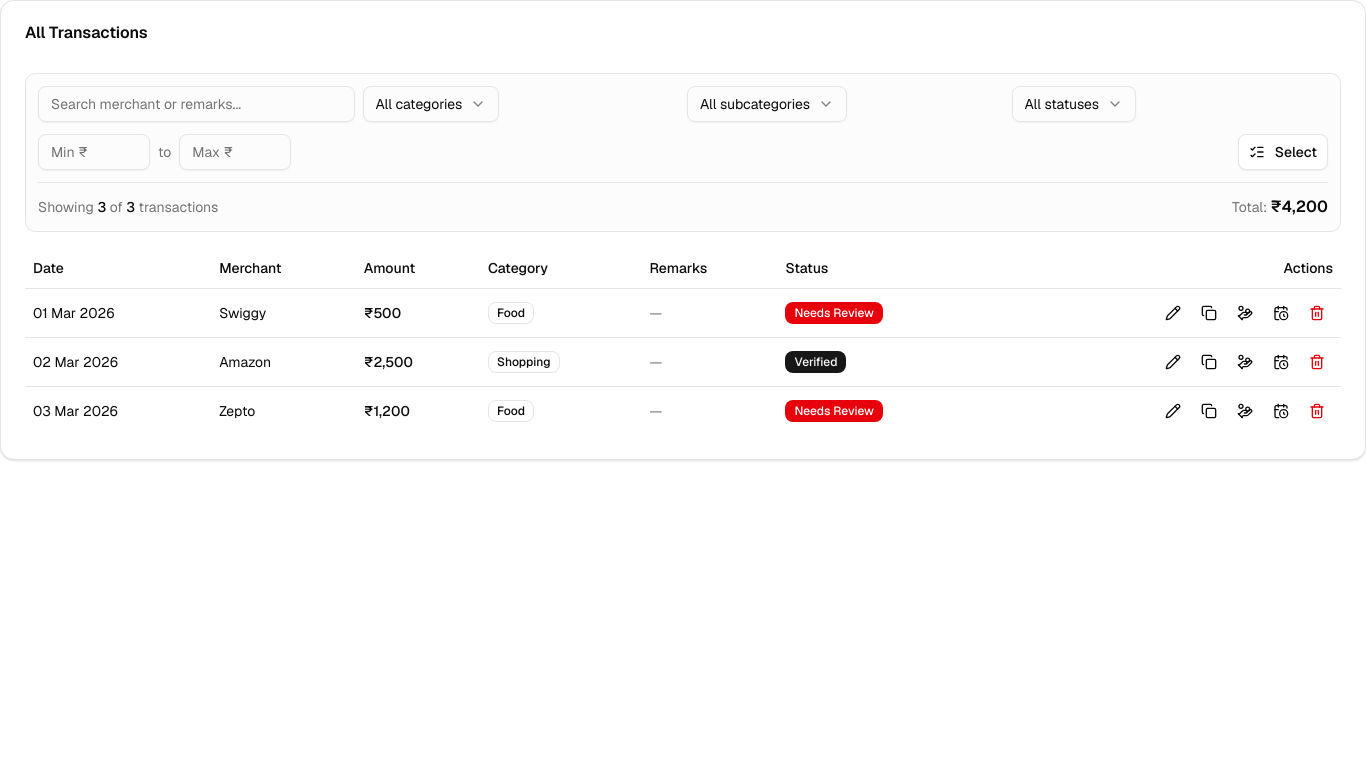
Test: TransactionTable bulk category › opens a dialog with Apply disabled until a category is picked
Click the button "Select".
click(1283, 152)  # box [1238,134,1328,170]
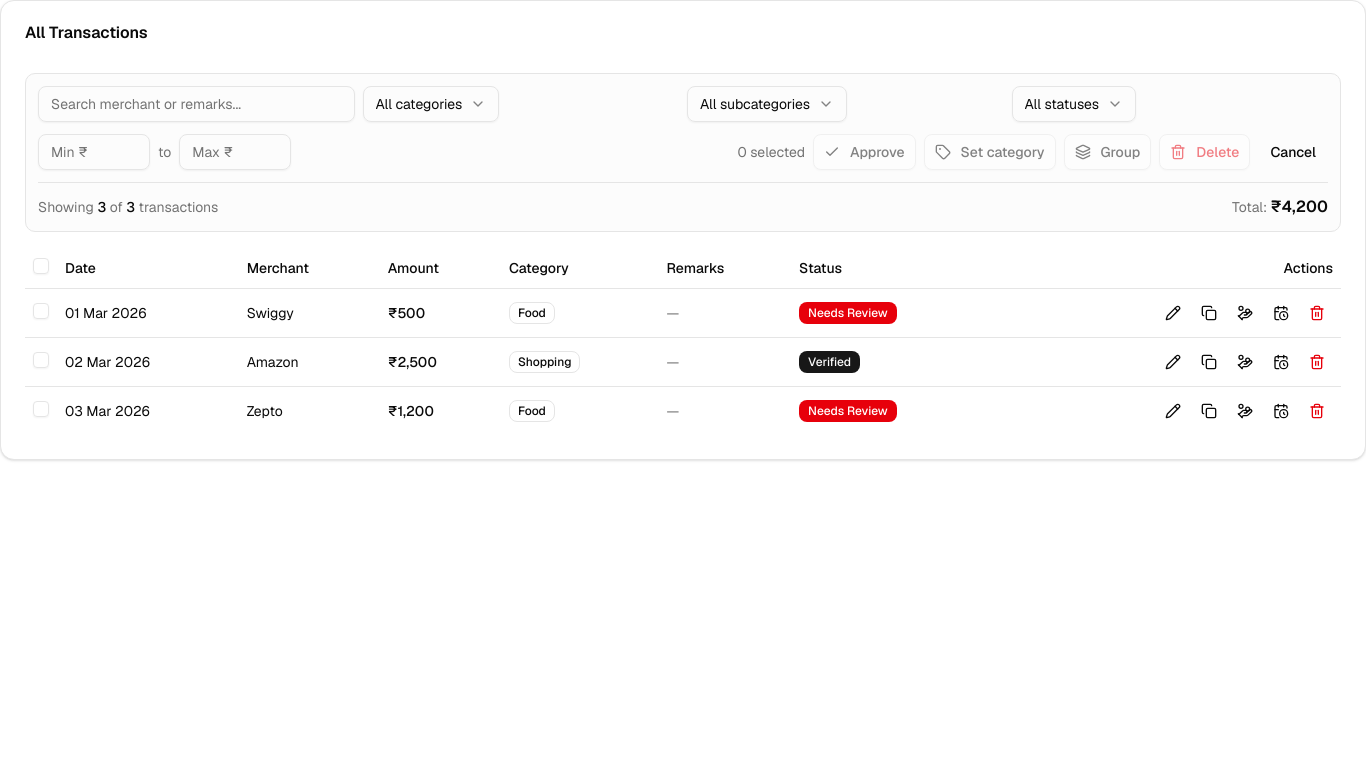
Click the checkbox named "Swiggy".
click(41, 310)  # box [33,302,49,318]
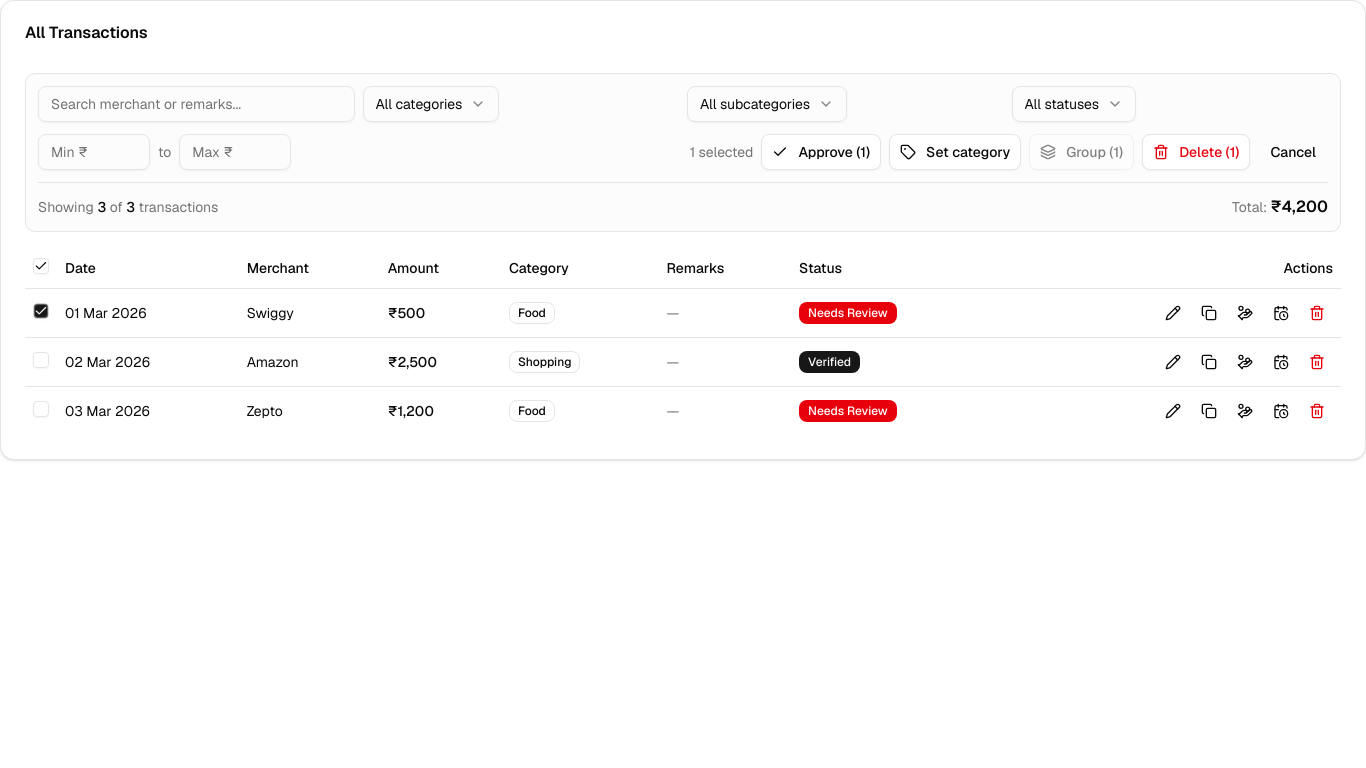
Click the button "Set category".
click(955, 152)  # box [889,134,1021,170]
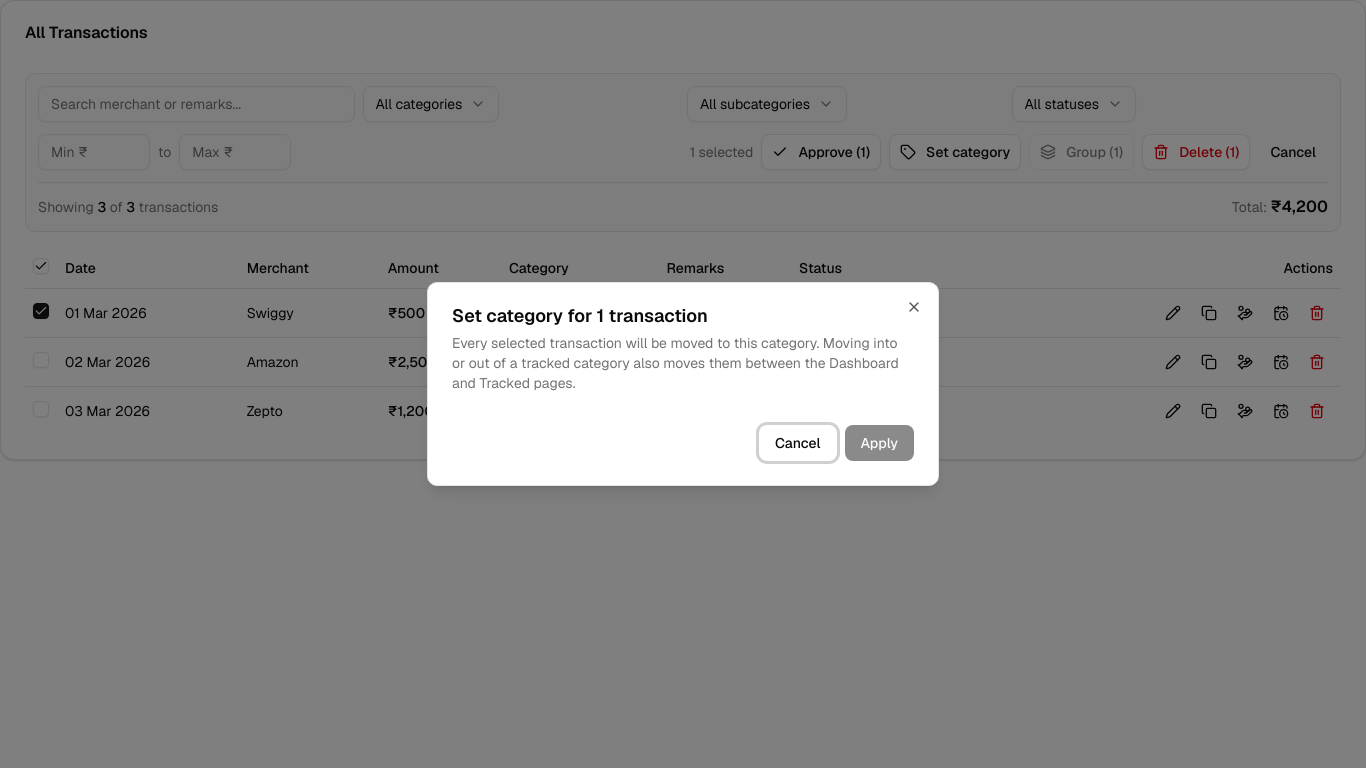
Check: the dialog shows "Set category for 1 transaction", box [427,282,939,486]
Check: the button "Apply" is disabled, box [844,425,914,461]
